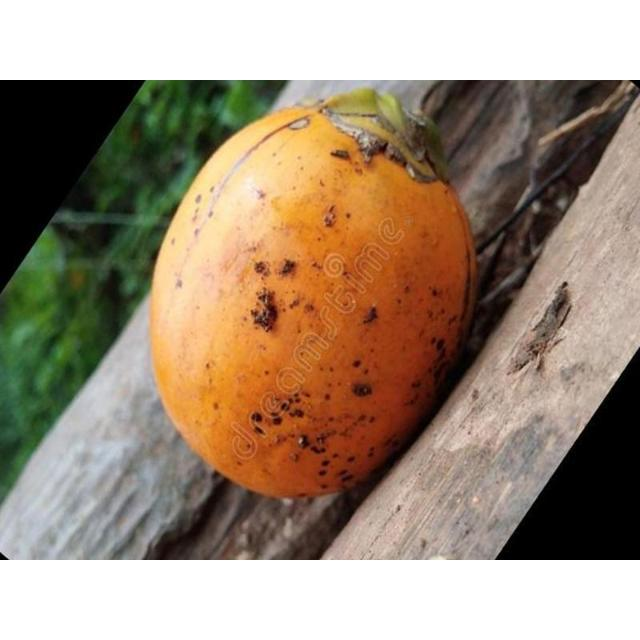good: (147, 88, 478, 502)
